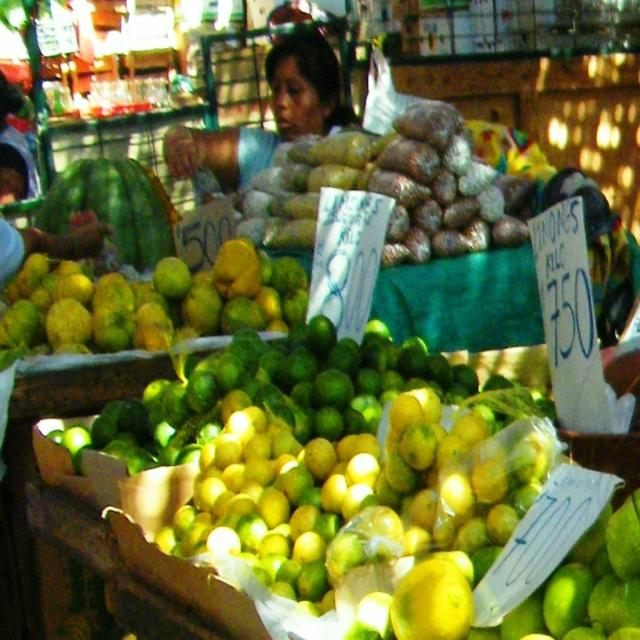Lemon: (49, 315, 555, 480), (156, 410, 554, 615), (348, 498, 639, 639)
